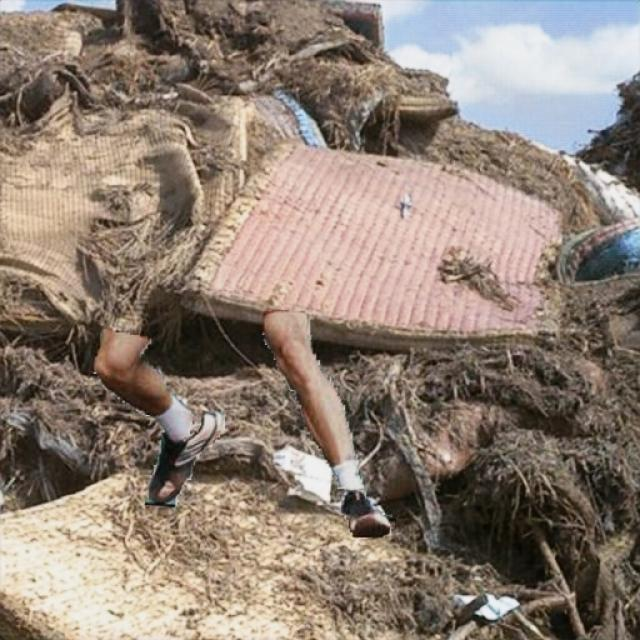Person in Rubble: (94, 310, 395, 536)
